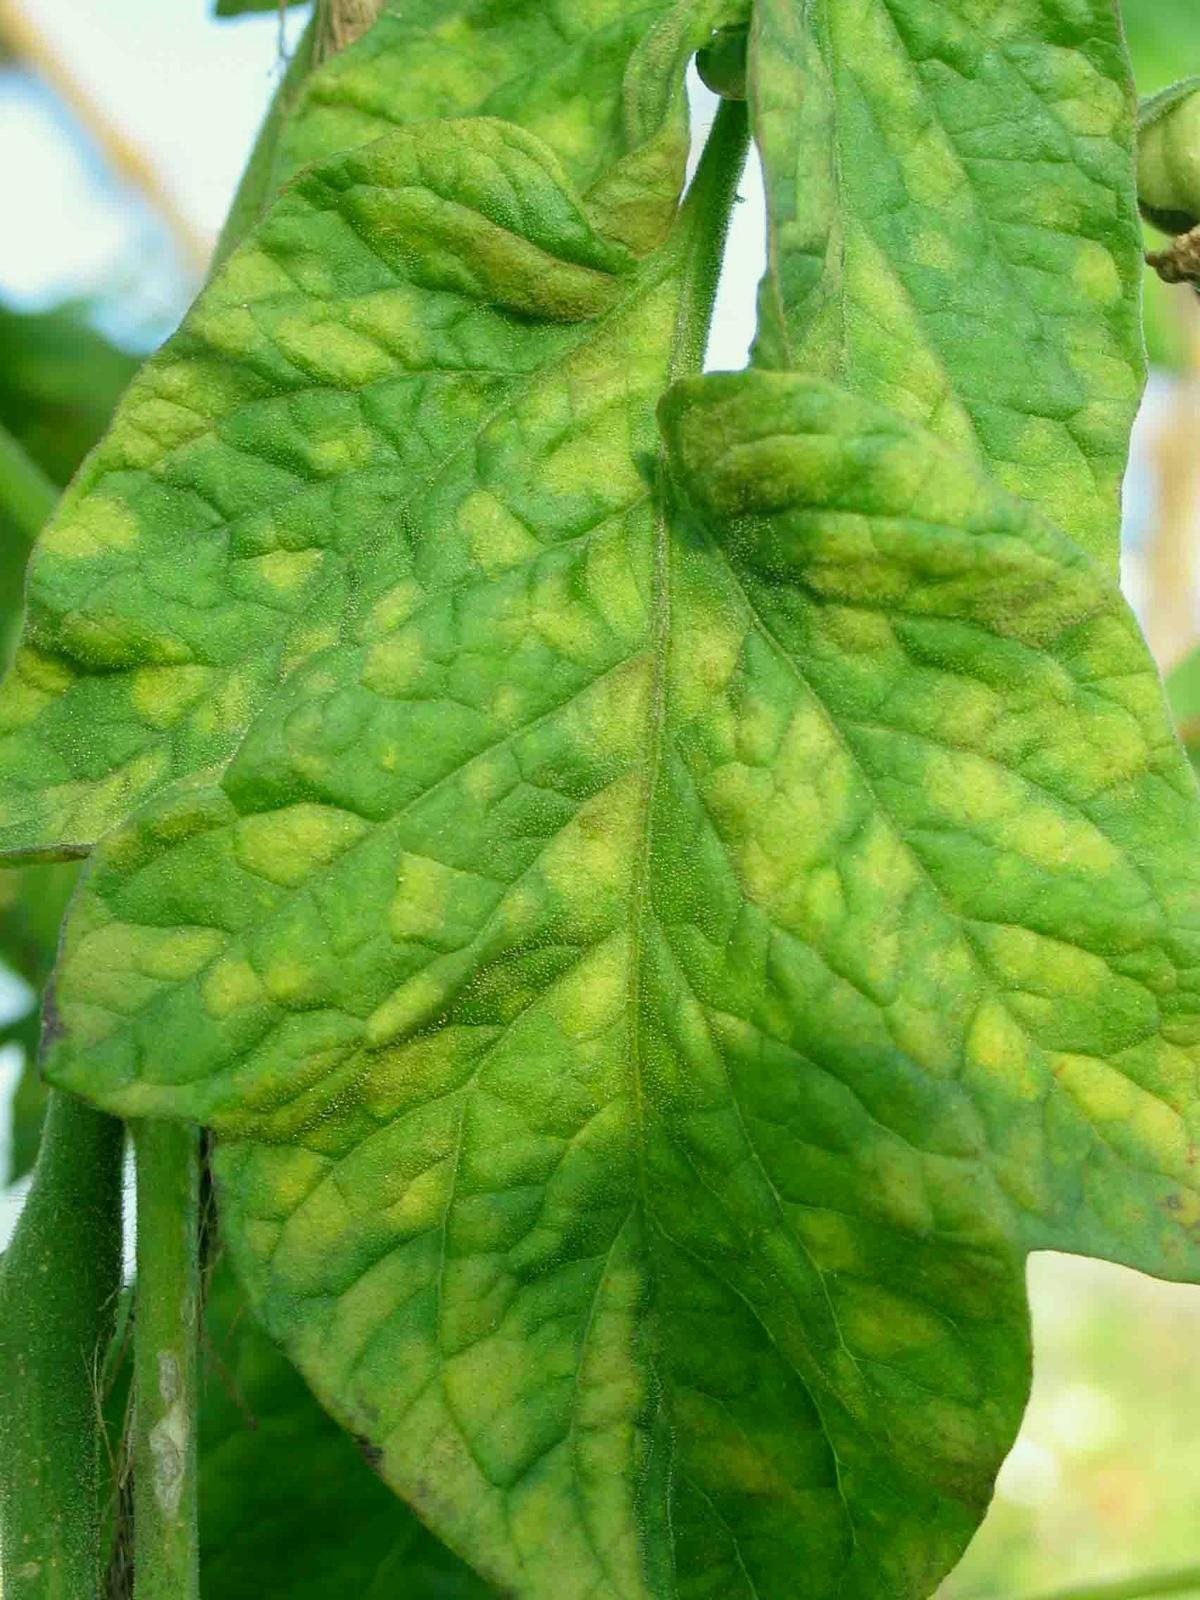Tomato mold leaf: (18, 1, 1175, 1587)
